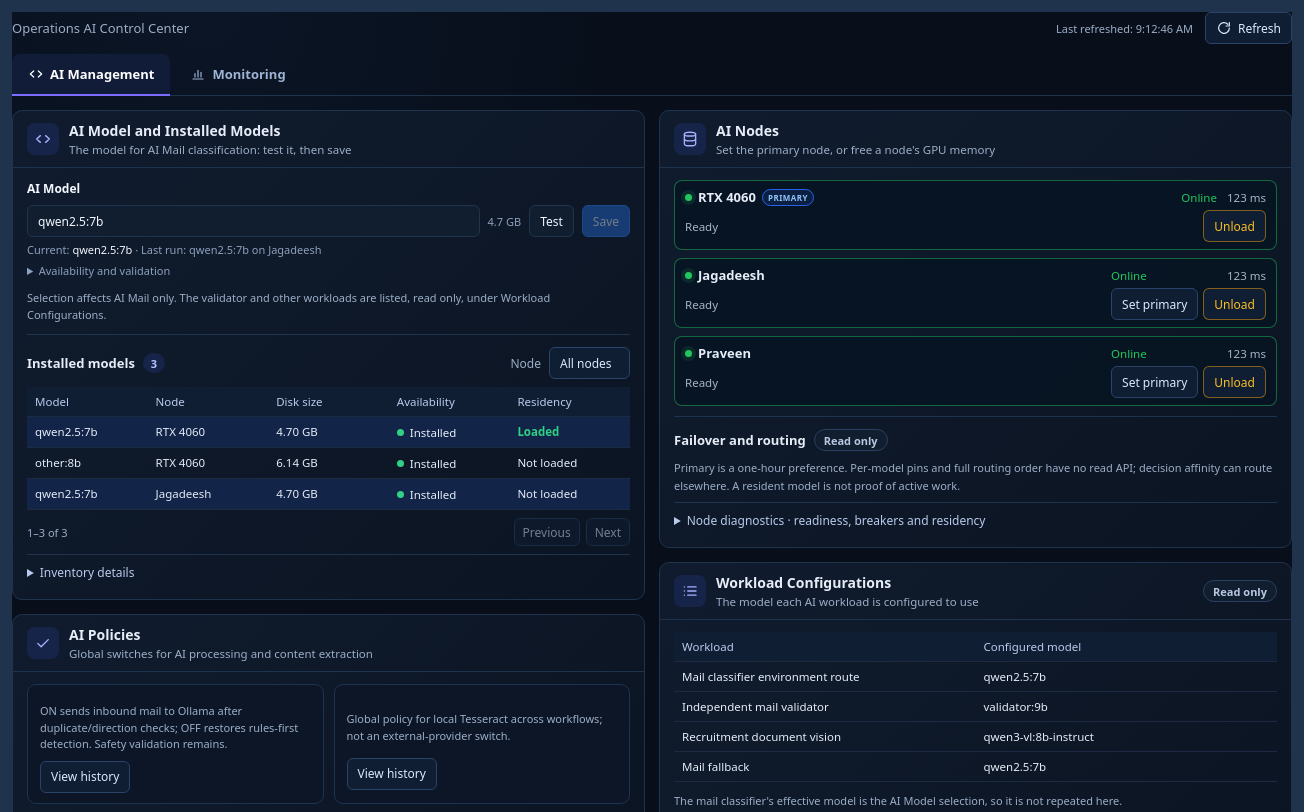
AI Controls: two tabs › shows exact installed and loaded inventory, sizes and node filtering
Check: the text "Last run: qwen2.5:7b on Jagadeesh" is shown, box x1=141 y1=242 x2=322 y2=257
Check: the text "6.14 GB" is shown, box x1=268 y1=448 x2=389 y2=479
Step 1. Select "Jagadeesh" in the dropdown named "Model inventory node" → (590, 363), box x1=549 y1=347 x2=630 y2=379
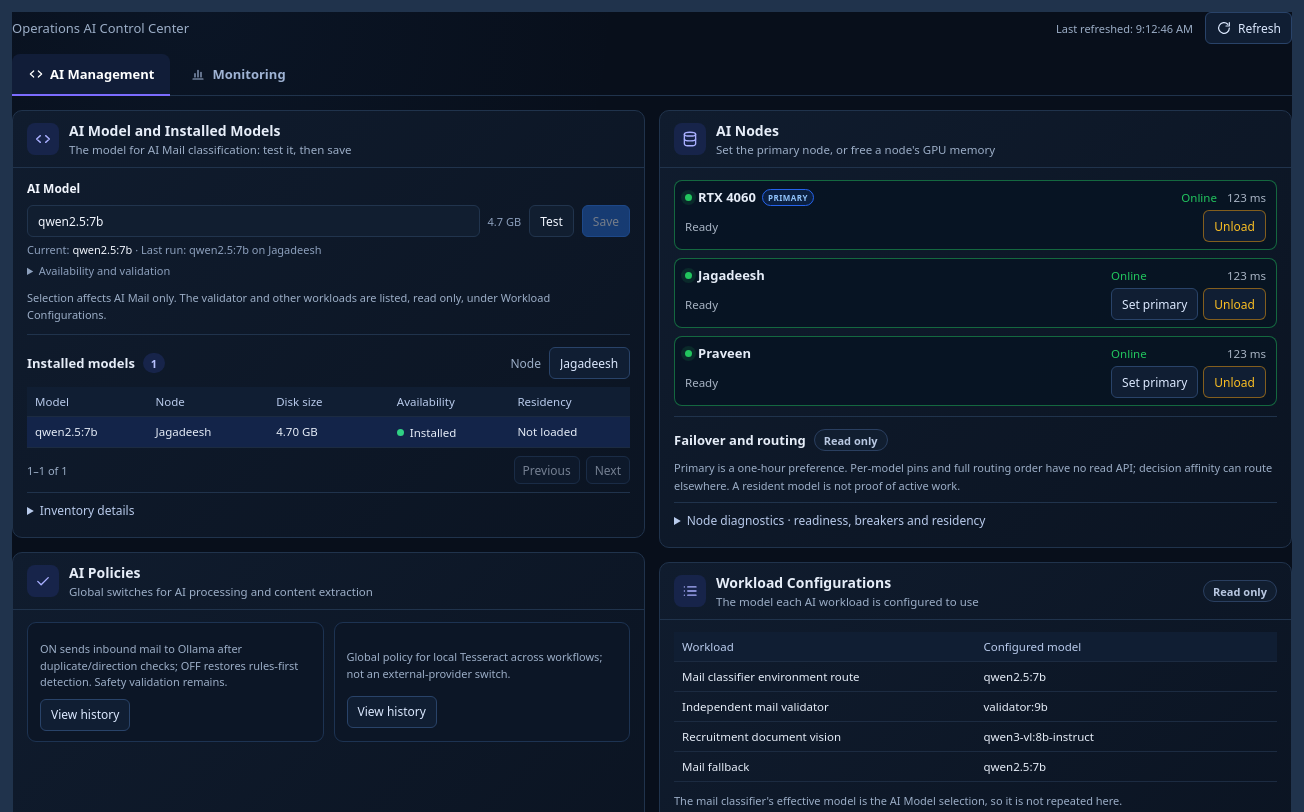
Check: the text "Not loaded" is shown, box x1=509 y1=417 x2=630 y2=448
Check: the text "6.14 GB" is gone
